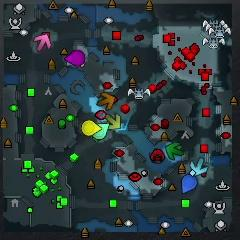p1: (181, 174, 198, 193)
p2: (91, 122, 109, 140)
p3: (65, 50, 86, 67)
p4: (82, 120, 101, 136)
x1: (33, 35, 51, 51)
x2: (105, 112, 122, 130)
x3: (189, 157, 208, 175)
x4: (165, 142, 185, 160)
x5: (97, 92, 116, 111)
